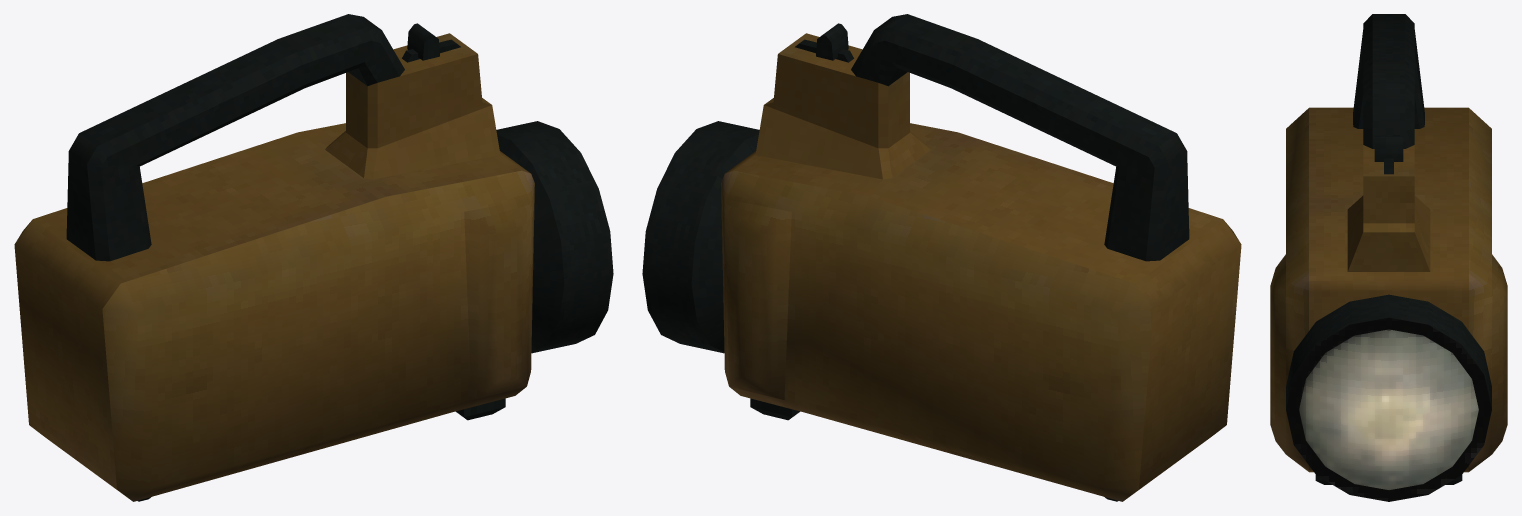
Rendered from flashlight_1.glb.
The picture shows the model from 3 angles, left to right: view 1: azimuth 30°, elevation 25°; view 2: azimuth 150°, elevation 25°; view 3: azimuth 270°, elevation 25°; orthographic projection. The views are drawn at different scales.
Visible parts, largest first — view 1: flashlight_1; view 2: flashlight_1; view 3: flashlight_1.
Boxes of the visible parts, x1,y1,x2,y2 form: flashlight_1: (14, 14, 613, 501); flashlight_1: (642, 14, 1241, 501); flashlight_1: (1270, 14, 1507, 501).
Size of the model in its own units: 0.3851 by 0.2745 by 0.1656.
1 material, 1 textured.
